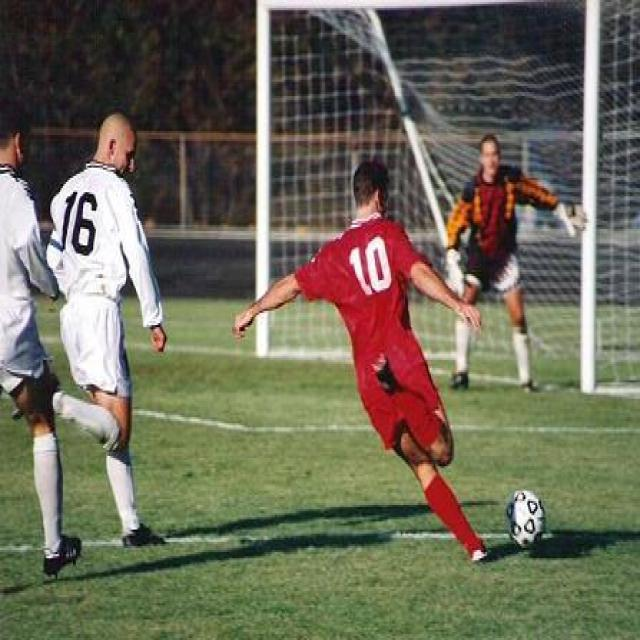Soccer Ball: (508, 489, 544, 548)
